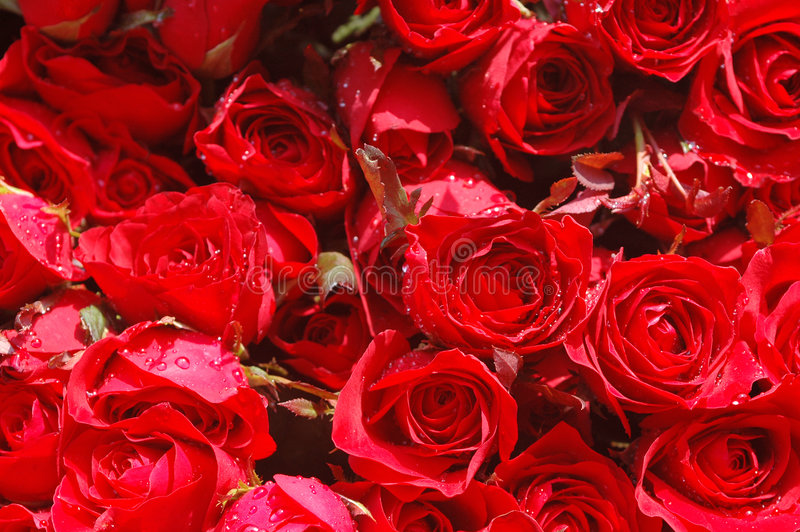RedRose: (339, 163, 608, 356), (89, 190, 333, 328), (313, 319, 525, 473), (573, 246, 750, 415), (192, 47, 351, 210), (83, 325, 270, 460), (636, 400, 800, 532), (668, 0, 800, 156), (469, 24, 619, 156), (53, 414, 217, 532), (322, 42, 471, 169), (24, 24, 188, 138), (488, 413, 643, 532), (256, 267, 385, 397), (342, 454, 532, 532), (608, 133, 730, 249), (564, 0, 730, 84), (192, 450, 360, 532), (0, 280, 116, 386), (742, 224, 800, 411), (141, 0, 268, 83), (373, 0, 517, 65), (0, 386, 87, 489), (0, 182, 83, 285), (75, 133, 174, 214), (0, 109, 87, 200), (10, 0, 125, 54)
